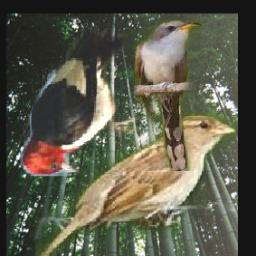Cuckoo: (135, 20, 203, 171)
Sparrow: (35, 113, 236, 256)
Woodpecker: (18, 23, 139, 176)
